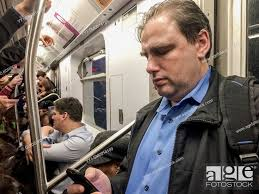white_male: (143, 23, 197, 99)
